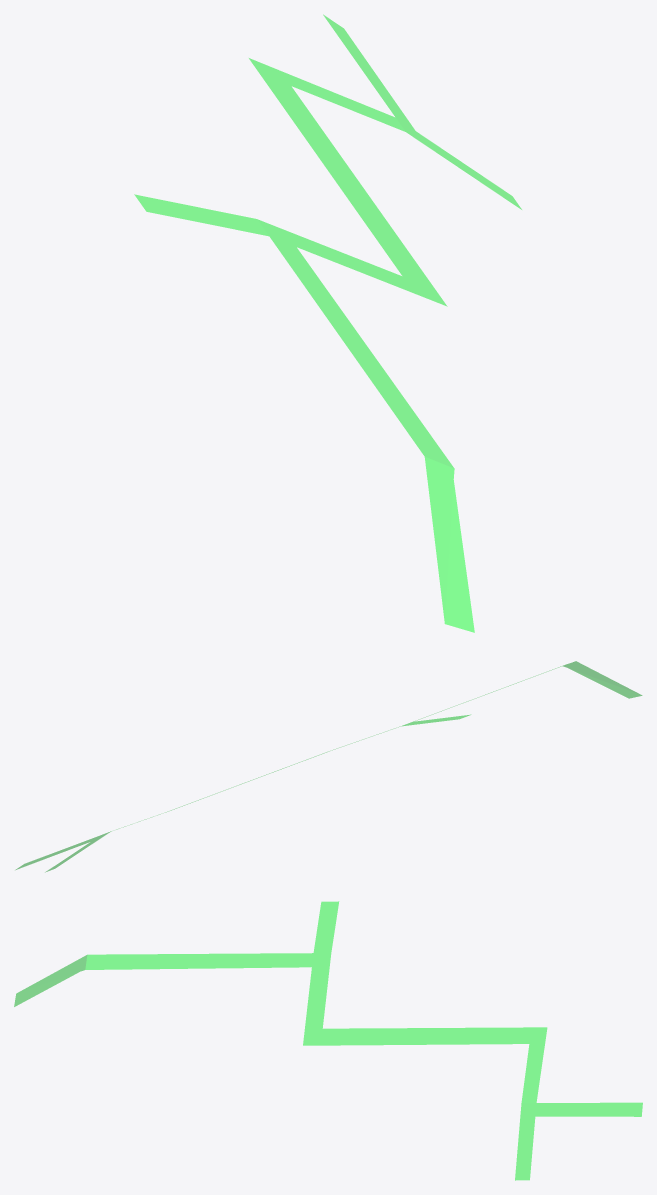
The model's file is ZXWm_052_artillery_t1_buff05.FBX.
3 views of the same model, one above another, from view 1: azimuth 30°, elevation 25°; view 2: azimuth 150°, elevation 25°; view 3: azimuth 270°, elevation 25° (orthographic). The views are drawn at different scales.
Visible parts, largest first — view 1: BUFF_05; view 2: BUFF_05; view 3: BUFF_05.
Part boxes in pixels (x1=…): BUFF_05: x1=134, y1=14, x2=521, y2=632; BUFF_05: x1=16, y1=661, x2=642, y2=872; BUFF_05: x1=14, y1=901, x2=642, y2=1180.
Bounding box in the file's own units: 31.74 × 14.74 × 59.47.
